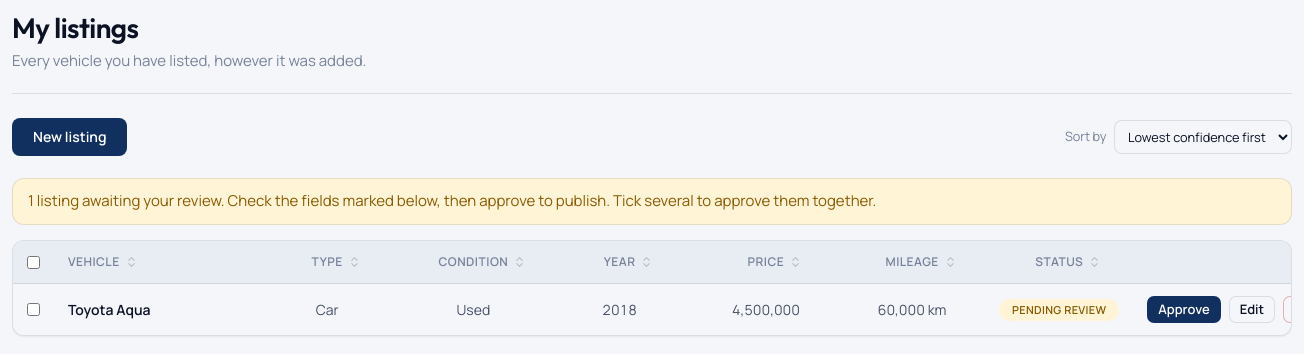
Scenario: DealerListingsPage - row actions › approving updates the row in place without re-fetching the list
This screenshot has width=1304, height=354.
Click the button "Approve". click: (1184, 310)
box: [1147,296,1221,323]
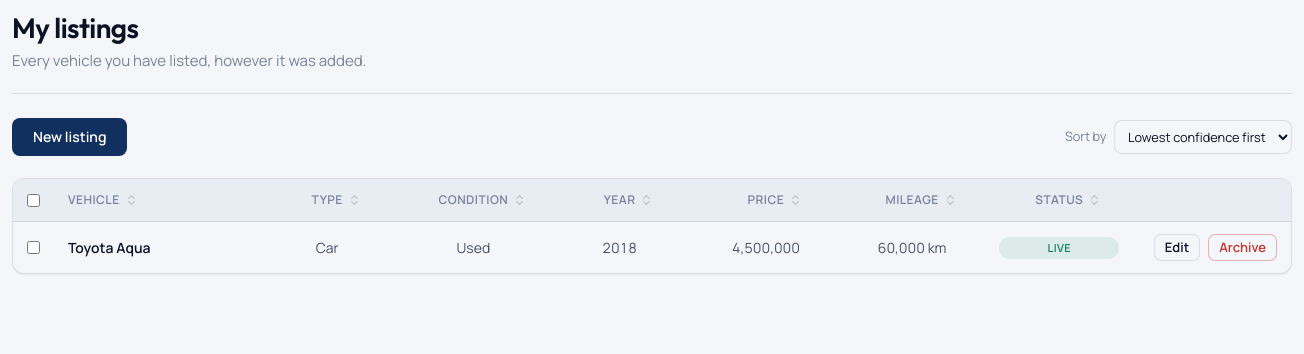
Result: the text "LIVE" is shown at [999,237,1119,259]
